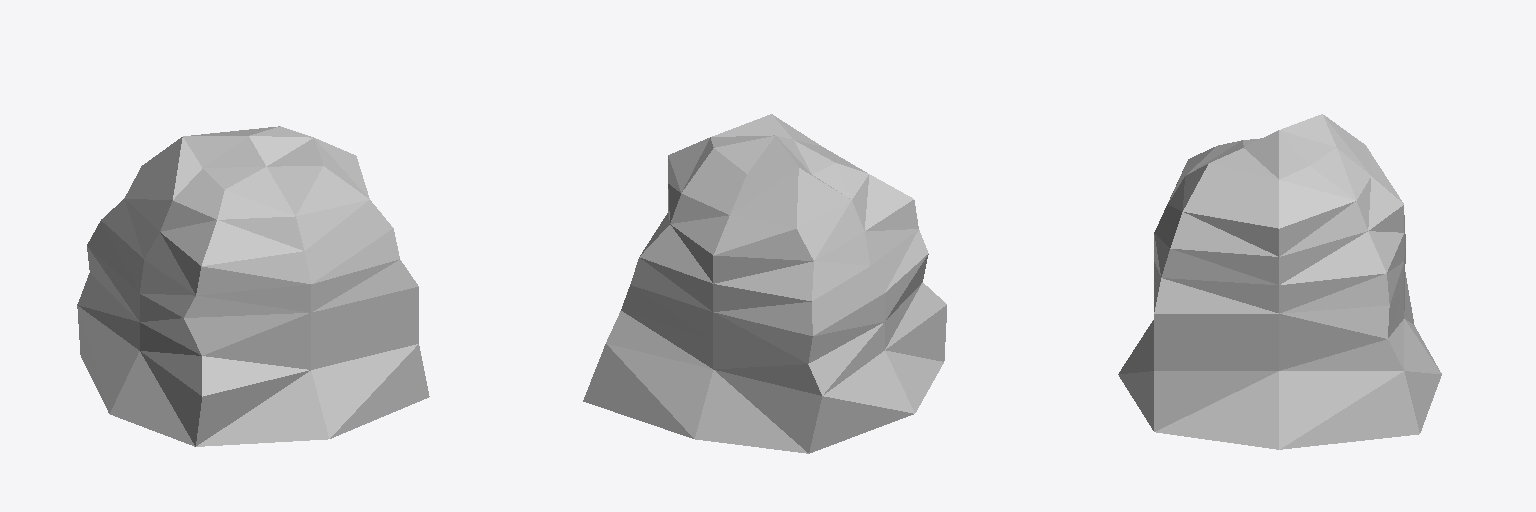
The model's file is iceBlock.obj.
3 views of the same model, side by side, from view 1: azimuth 30°, elevation 25°; view 2: azimuth 150°, elevation 25°; view 3: azimuth 270°, elevation 25° (orthographic).
Parts seen in each view (by area): view 1: Cube; view 2: Cube; view 3: Cube.
Part boxes in pixels (x1,y1,x2,y2): Cube: (77, 126, 429, 446); Cube: (583, 114, 946, 453); Cube: (1118, 114, 1441, 449).
Bounding box in the file's own units: 2.71 × 2.16 × 2.59.